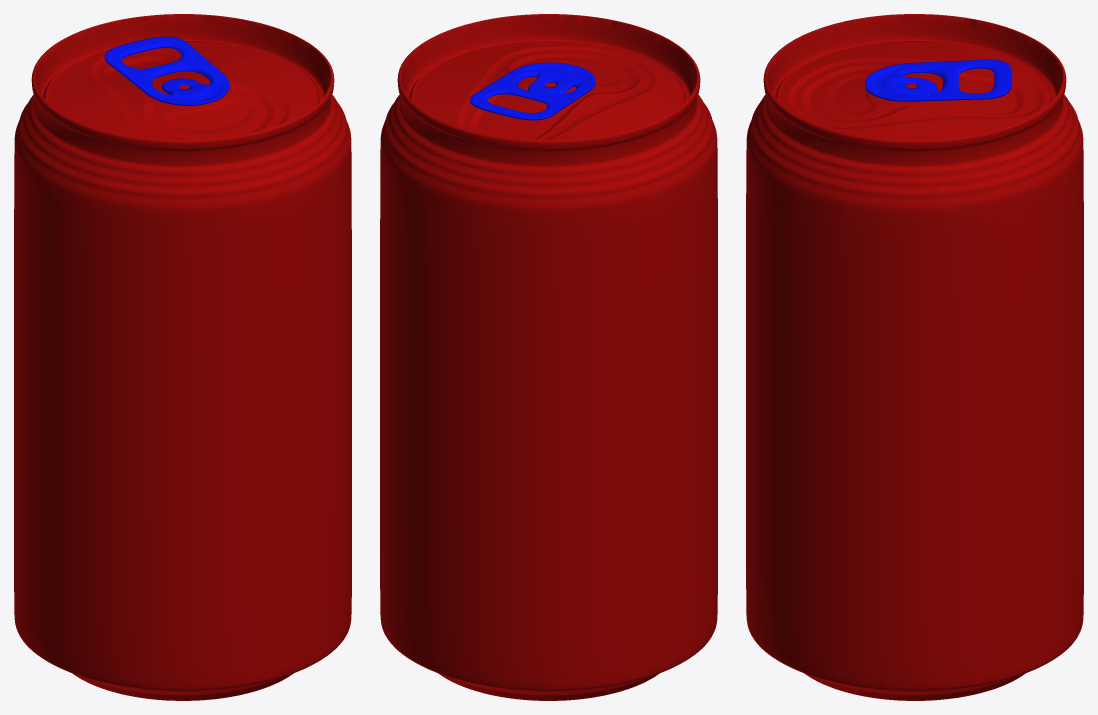
File: can.gltf
The picture shows the model from 3 angles, left to right: view 1: azimuth 30°, elevation 25°; view 2: azimuth 150°, elevation 25°; view 3: azimuth 270°, elevation 25°; orthographic projection.
Visible parts, largest first — view 1: body, top, top-tab; view 2: body, top, top-tab; view 3: body, top, top-tab.
Boxes of the visible parts, box(x1,y1,x2,y2) form: body: box(14, 14, 351, 700); top: box(43, 41, 318, 139); top-tab: box(104, 36, 229, 105); body: box(380, 14, 717, 700); top: box(410, 41, 684, 139); top-tab: box(470, 62, 595, 120); body: box(746, 14, 1083, 700); top: box(775, 41, 1050, 139); top-tab: box(865, 59, 1012, 101).
Bounding box in the file's own units: 2.44 × 4.55 × 2.44.
